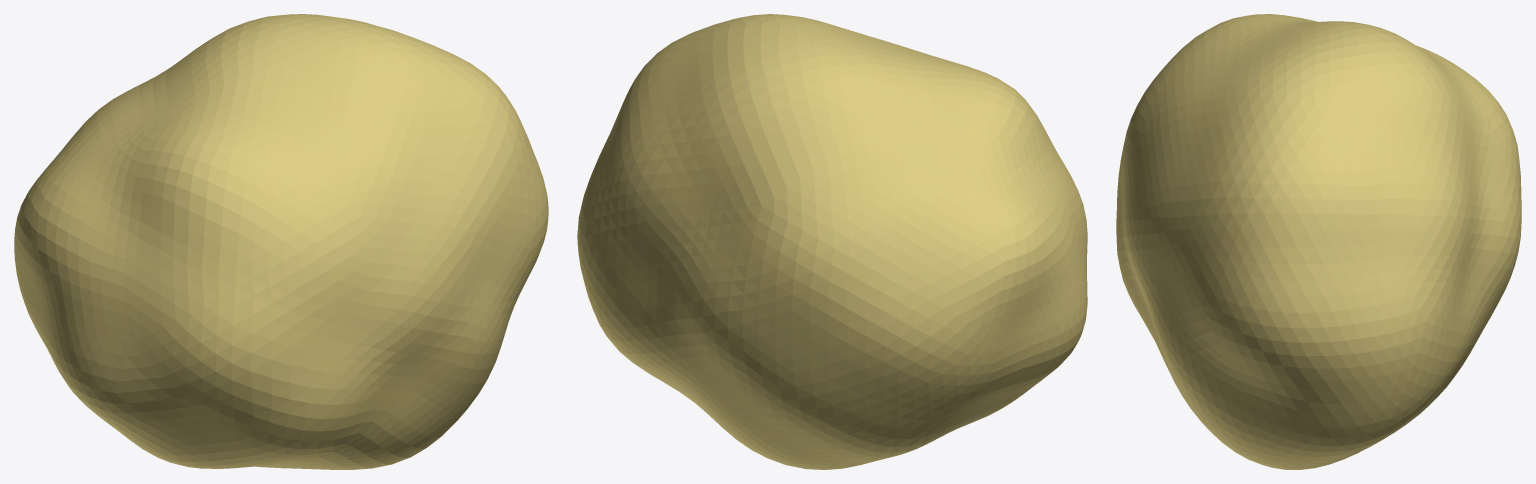
The model's file is stones.glb.
3 renders of one model, left to right at view 1: azimuth 30°, elevation 25°; view 2: azimuth 150°, elevation 25°; view 3: azimuth 270°, elevation 25°, orthographic. The views are drawn at different scales.
Parts seen in each view (by area): view 1: geometry_0; view 2: geometry_0; view 3: geometry_0.
Part boxes in pixels (left/top/right/bottom): geometry_0: left=14, top=14, right=548, bottom=469; geometry_0: left=577, top=14, right=1087, bottom=469; geometry_0: left=1116, top=14, right=1521, bottom=469.
Bounding box in the file's own units: 14.31 × 12.21 × 11.12.
